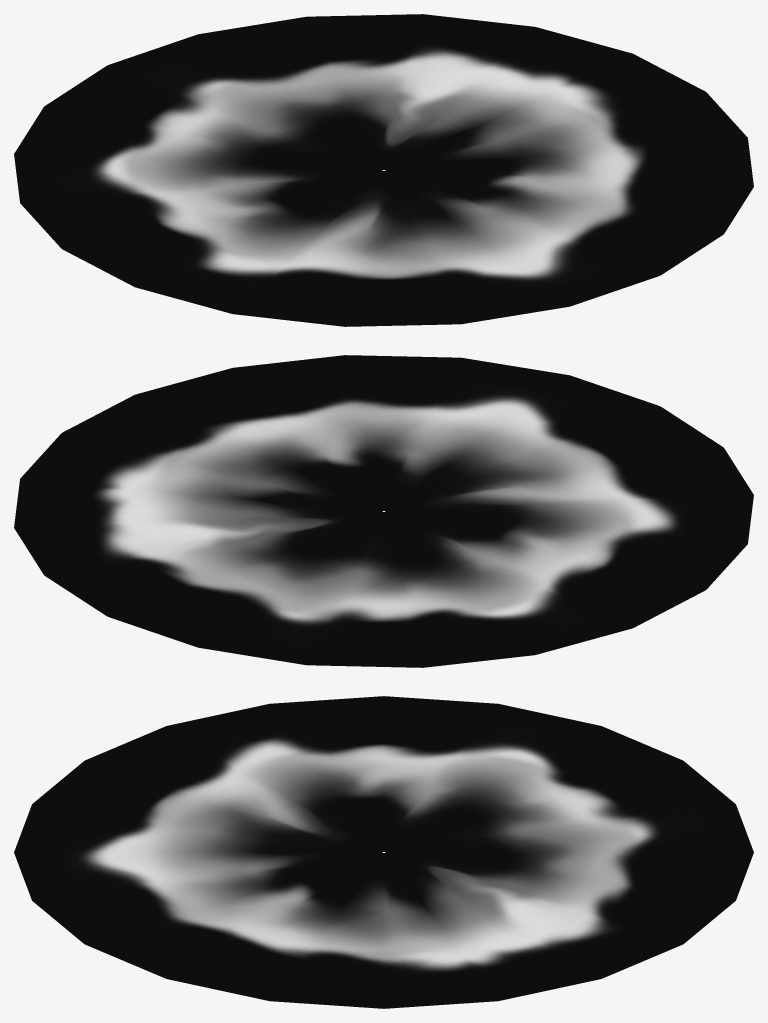
The model's file is SM_VandMelee_Hit 1.fbx.
The picture shows the model from 3 angles, top to bottom: view 1: azimuth 30°, elevation 25°; view 2: azimuth 150°, elevation 25°; view 3: azimuth 270°, elevation 25°; orthographic projection.
Visible parts, largest first — view 1: SM_VandMelee_Hit; view 2: SM_VandMelee_Hit; view 3: SM_VandMelee_Hit.
Part boxes in pixels (x1,y1,x2,y2): SM_VandMelee_Hit: (14, 14, 753, 326); SM_VandMelee_Hit: (14, 355, 753, 667); SM_VandMelee_Hit: (14, 696, 753, 1008).
Bounding box in the file's own units: 400 × 0 × 400.
